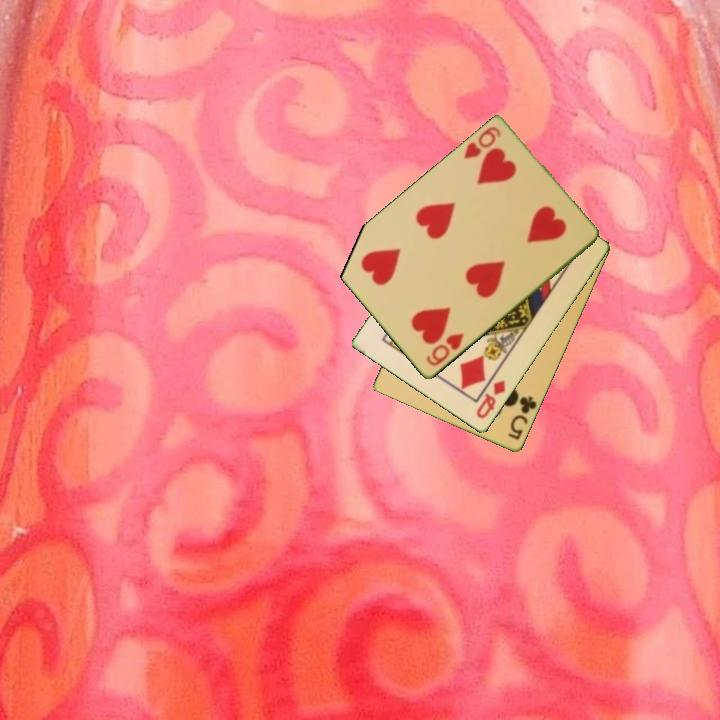5c: (505, 393, 540, 443)
6h: (460, 123, 504, 163), (423, 330, 467, 369)
Qd: (472, 377, 509, 422)
